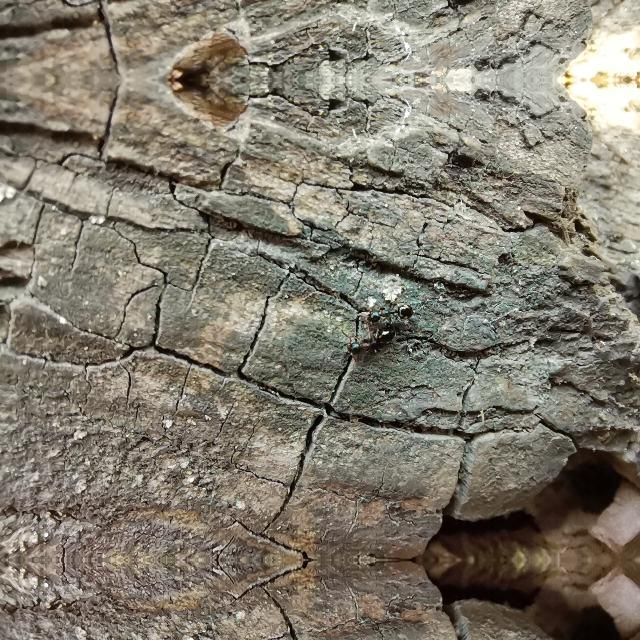Dolichoderus: (338, 325, 398, 361), (360, 292, 420, 324)
